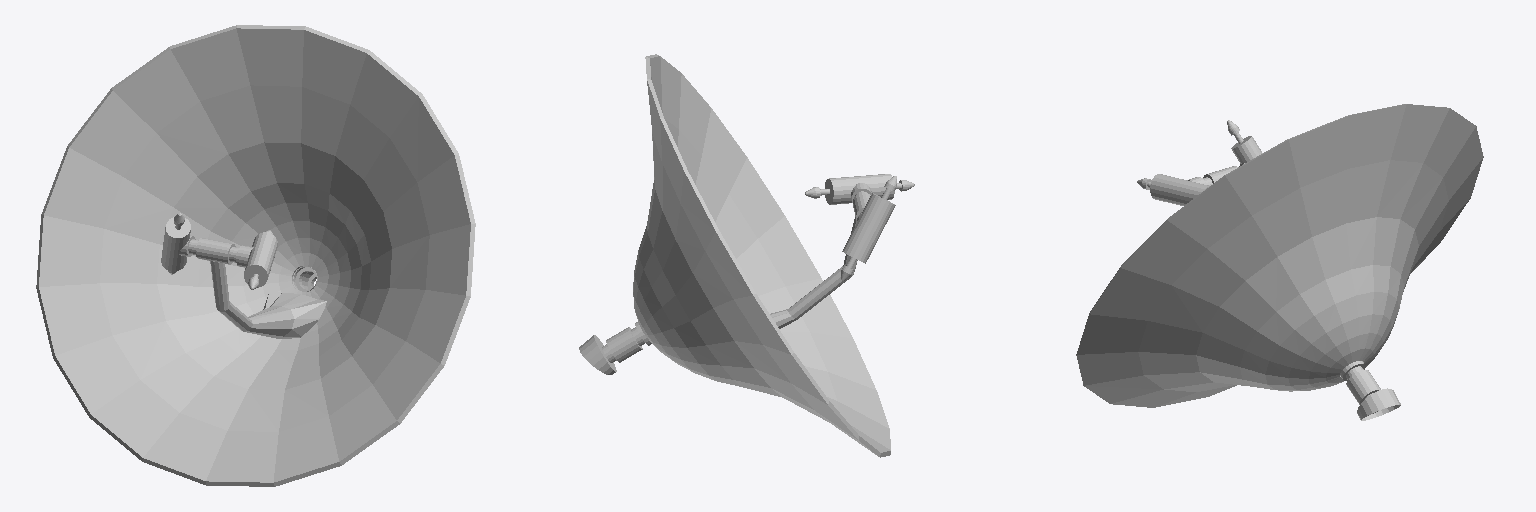
The model's file is Satelite.obj.
3 views of the same model, side by side, from view 1: azimuth 30°, elevation 25°; view 2: azimuth 150°, elevation 25°; view 3: azimuth 270°, elevation 25° (orthographic).
Parts seen in each view (by area): view 1: Satelite_Part_1_Geo Satelite House, Satelite House Satelite_Part_5_Geo, Satelite House Satelite_Part_3_Geo, Satelite House Satelite_Part_4_Geo, Satelite House Satelite_Part_6_Geo; view 2: Satelite_Part_1_Geo Satelite House, Satelite House Satelite_Part_6_Geo, Satelite House Satelite_Part_2_Geo, Satelite House Satelite_Part_4_Geo, Satelite House Satelite_Part_5_Geo; view 3: Satelite_Part_1_Geo Satelite House, Satelite House Satelite_Part_2_Geo, Satelite House Satelite_Part_4_Geo, Satelite House Satelite_Part_6_Geo.
Part boxes in pixels (left/top/right/bottom): Satelite_Part_1_Geo Satelite House: left=36, top=25, right=475, bottom=486; Satelite House Satelite_Part_5_Geo: left=210, top=261, right=326, bottom=338; Satelite House Satelite_Part_3_Geo: left=179, top=235, right=253, bottom=267; Satelite House Satelite_Part_4_Geo: left=244, top=230, right=277, bottom=289; Satelite House Satelite_Part_6_Geo: left=161, top=213, right=190, bottom=274; Satelite_Part_1_Geo Satelite House: left=633, top=54, right=890, bottom=457; Satelite House Satelite_Part_6_Geo: left=841, top=176, right=896, bottom=280; Satelite House Satelite_Part_2_Geo: left=579, top=322, right=651, bottom=374; Satelite House Satelite_Part_4_Geo: left=805, top=174, right=914, bottom=204; Satelite House Satelite_Part_5_Geo: left=770, top=216, right=857, bottom=328; Satelite_Part_1_Geo Satelite House: left=1076, top=104, right=1483, bottom=407; Satelite House Satelite_Part_2_Geo: left=1340, top=361, right=1400, bottom=420; Satelite House Satelite_Part_4_Geo: left=1137, top=174, right=1209, bottom=205; Satelite House Satelite_Part_6_Geo: left=1227, top=120, right=1262, bottom=163.
Bounding box in the file's own units: 13.22 × 15.71 × 15.88.